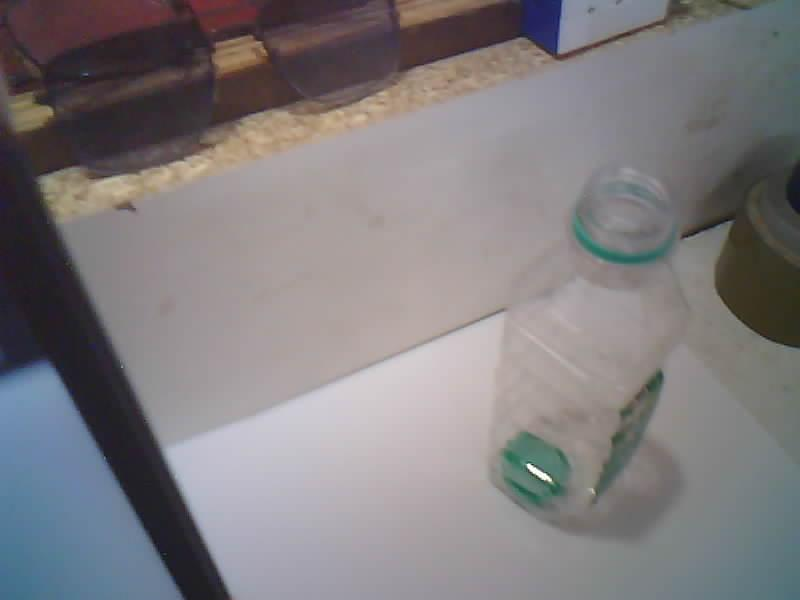non-biodegradable: (491, 168, 687, 520)
